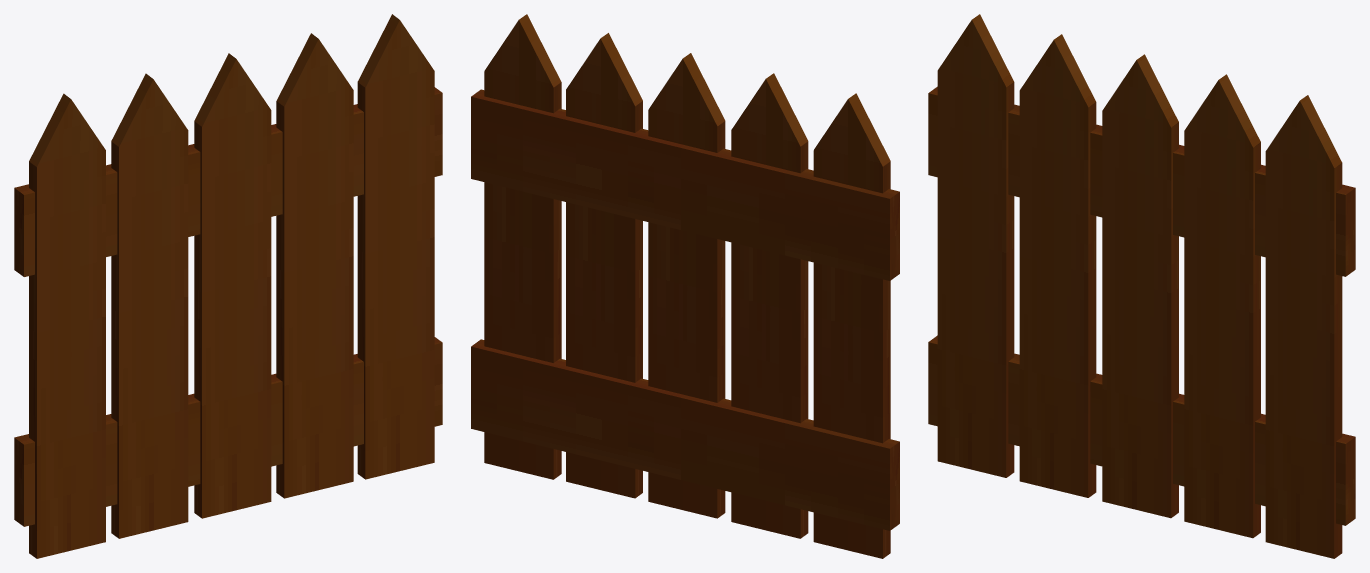
File: Fence2.glb
3 views of the same model, side by side, from view 1: azimuth 30°, elevation 25°; view 2: azimuth 150°, elevation 25°; view 3: azimuth 330°, elevation 25° (orthographic).
Parts seen in each view (by area): view 1: Cube, Cube.001, Cube.002; view 2: Cube, Cube.001, Cube.002; view 3: Cube, Cube.001, Cube.002.
Part boxes in pixels (bbox=[...]): Cube: bbox=[29, 14, 434, 558]; Cube.001: bbox=[14, 87, 442, 276]; Cube.002: bbox=[14, 337, 442, 526]; Cube: bbox=[484, 14, 890, 558]; Cube.001: bbox=[471, 89, 899, 280]; Cube.002: bbox=[471, 339, 899, 530]; Cube: bbox=[937, 14, 1342, 558]; Cube.001: bbox=[928, 86, 1355, 276]; Cube.002: bbox=[928, 335, 1355, 525].
Bounding box in the file's own units: 1 × 1.03 × 0.0485.
1 material, 1 textured.
